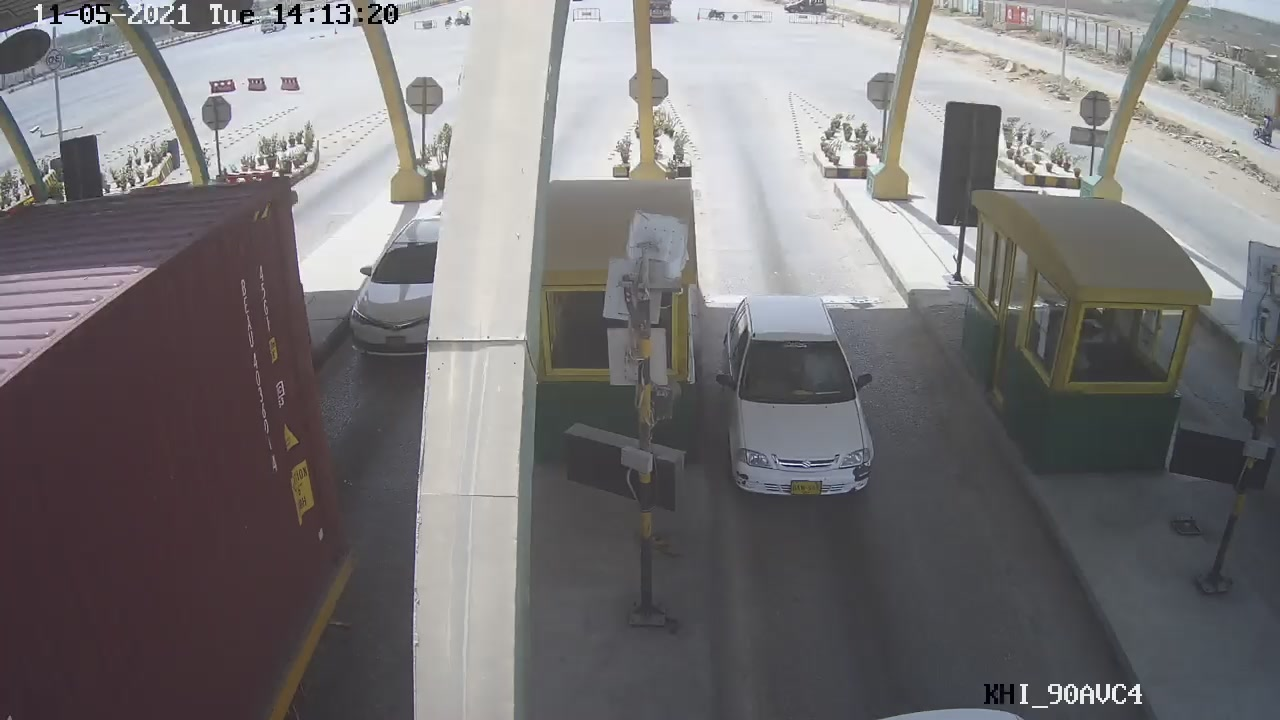F1: (706, 286, 888, 504)
